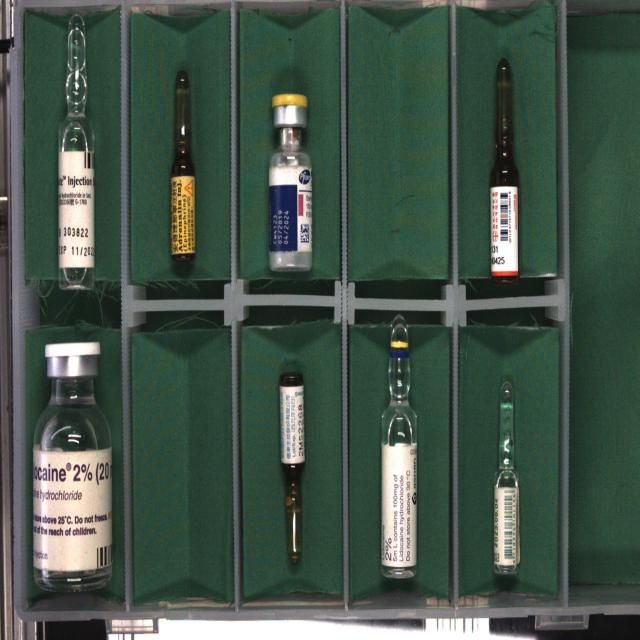Vials: (33, 342, 111, 590), (269, 93, 312, 271)
